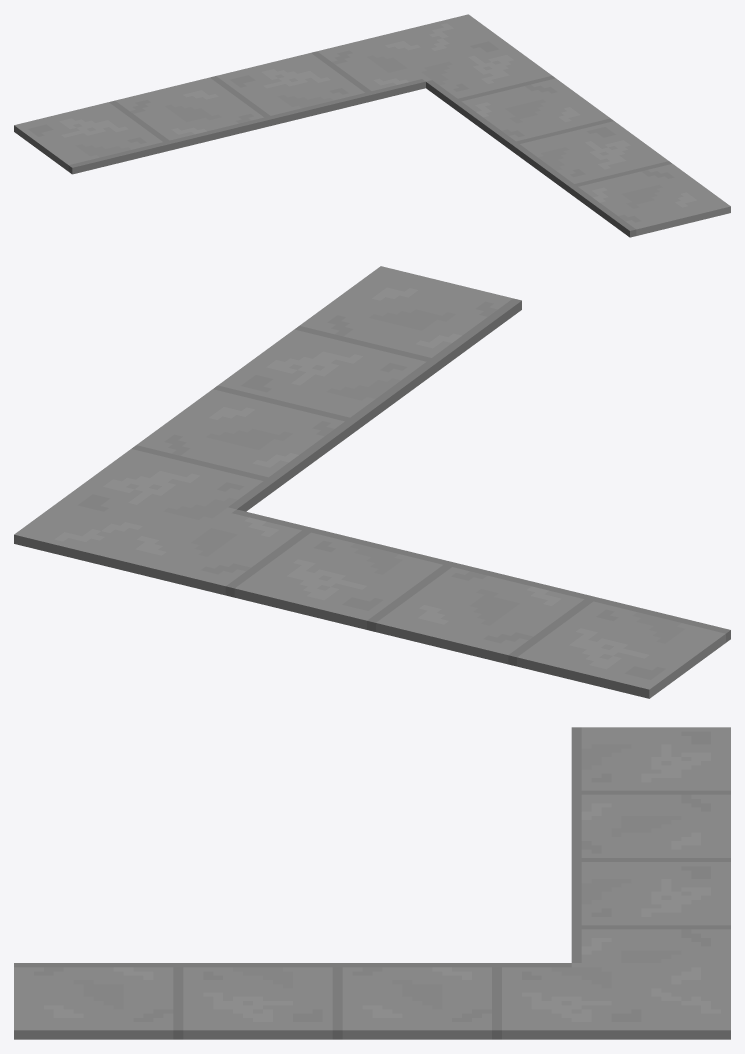
The model's file is sidewalk_corner.gltf.
The picture shows the model from 3 angles, top to bottom: view 1: azimuth 30°, elevation 25°; view 2: azimuth 150°, elevation 25°; view 3: azimuth 270°, elevation 25°; orthographic projection. The views are drawn at different scales.
Parts seen in each view (by area): view 1: Layer.1 (×4); view 2: Layer.1 (×4); view 3: Layer.1 (×4).
Part boxes in pixels (left/top/right/bottom): Layer.1 (×4): left=14, top=14, right=730, bottom=237; Layer.1 (×4): left=14, top=266, right=730, bottom=698; Layer.1 (×4): left=14, top=727, right=730, bottom=1039.
Bounding box in the file's own units: 72 × 1 × 72.
1 material, 1 textured.
